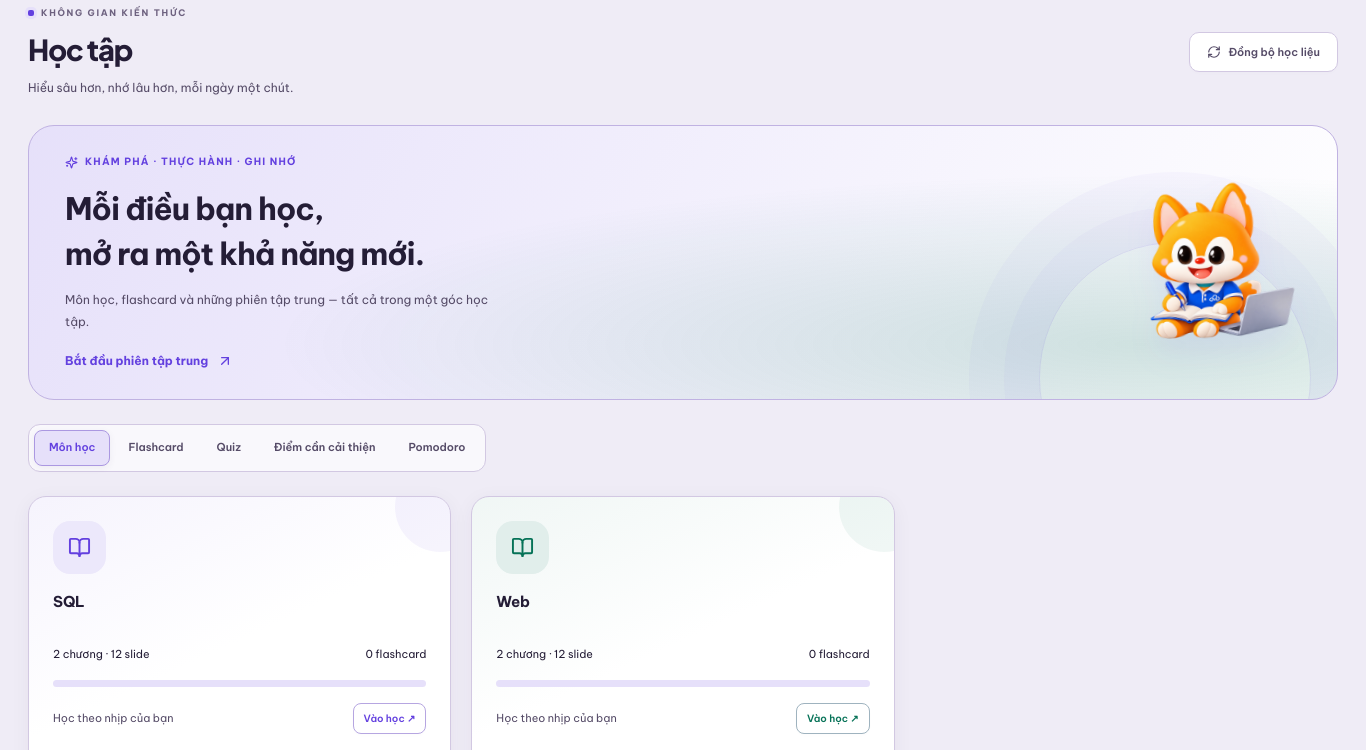
Test: Manual AI summaries and visible sequential queue › only starts AI on button click and lets another course enter the queue
Click the 1st button "Vào học ↗".
click(389, 718)  # box [353, 703, 426, 734]
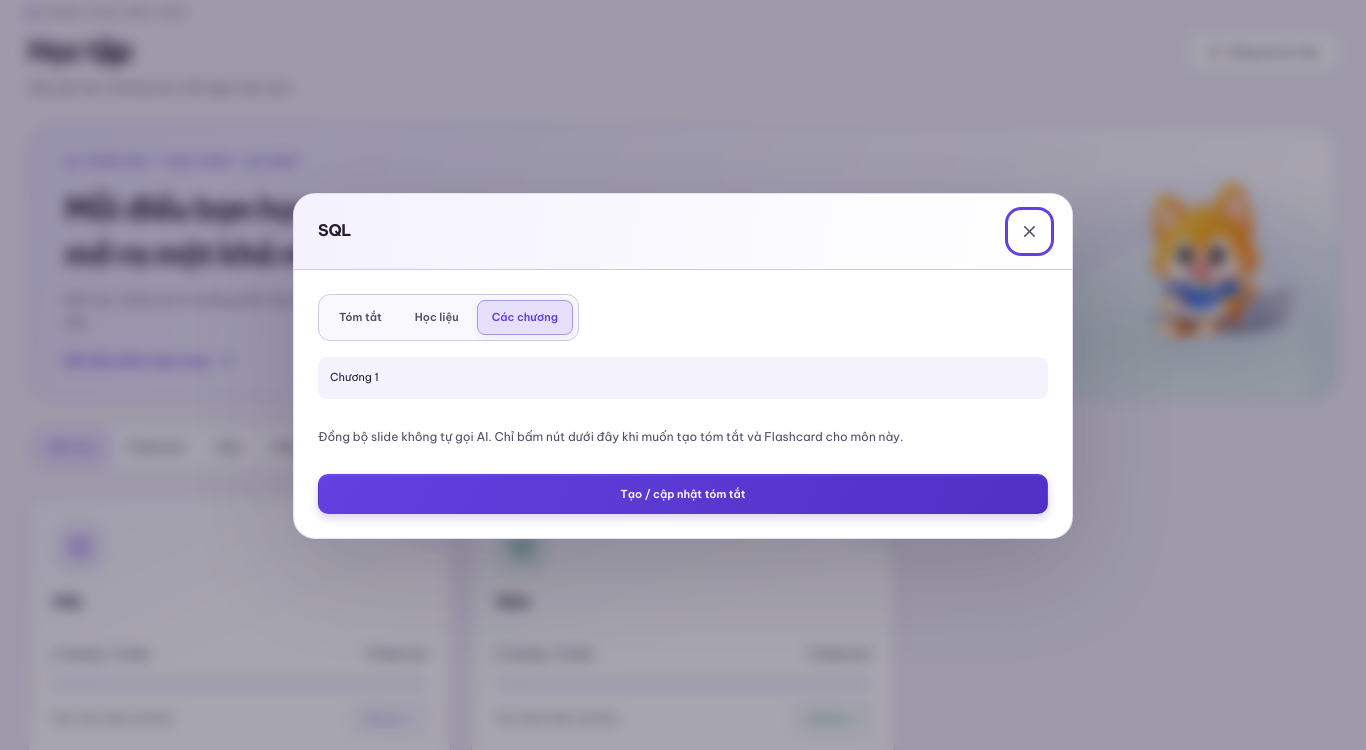
Expected: the text "Chương 1" is shown, [318, 357, 1048, 399]
Click the button "Tạo / cập nhật tóm tắt".
click(683, 494)  # box [318, 474, 1048, 514]
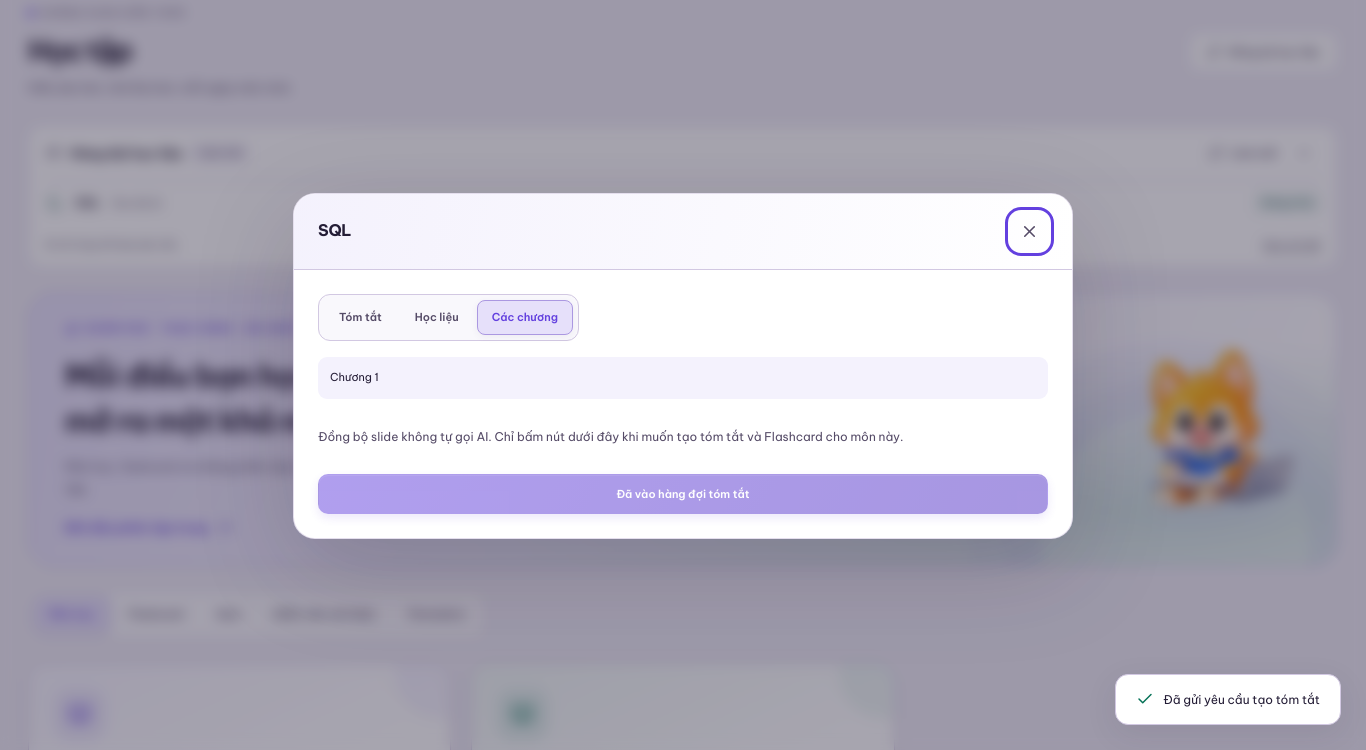
Click the button named "Đóng hộp thoại".
click(1030, 231)  # box [1011, 213, 1048, 250]
(page scrolled)
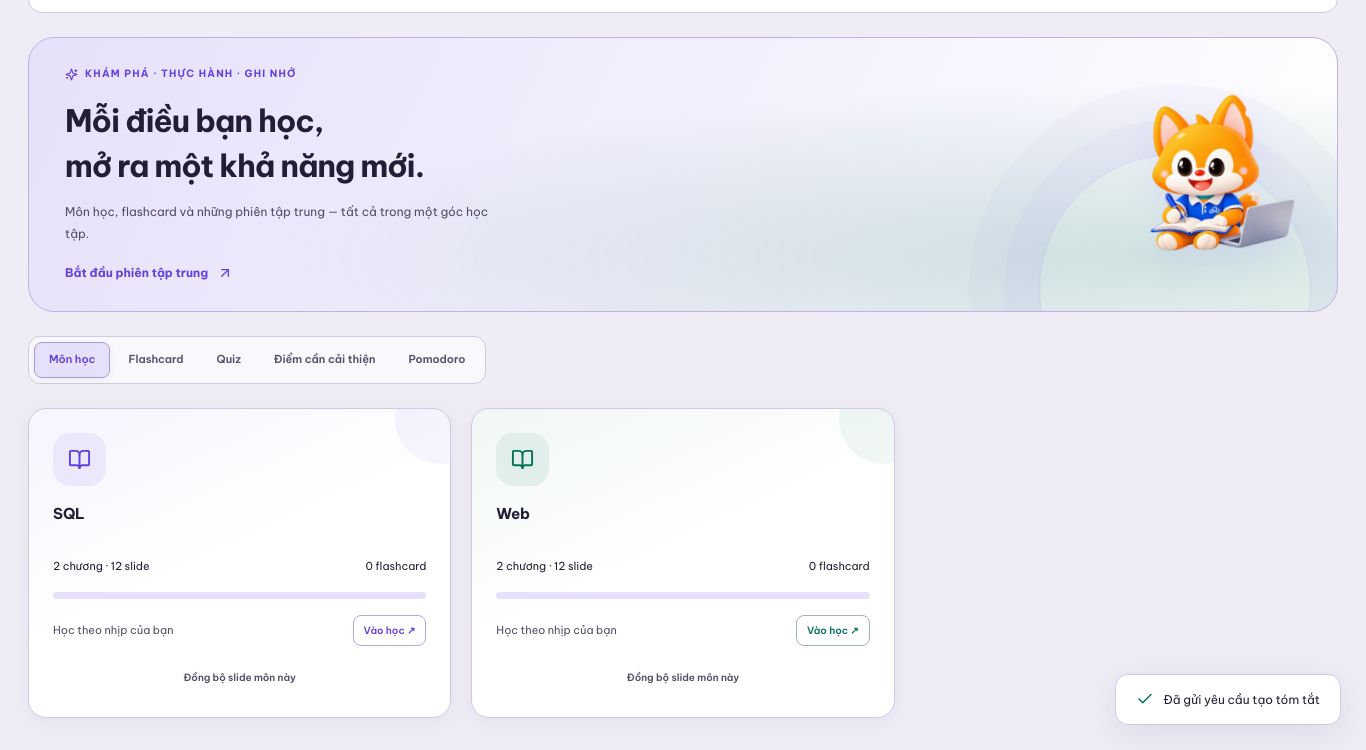
Click the 2nd button "Vào học ↗".
click(833, 630)  # box [796, 615, 870, 646]
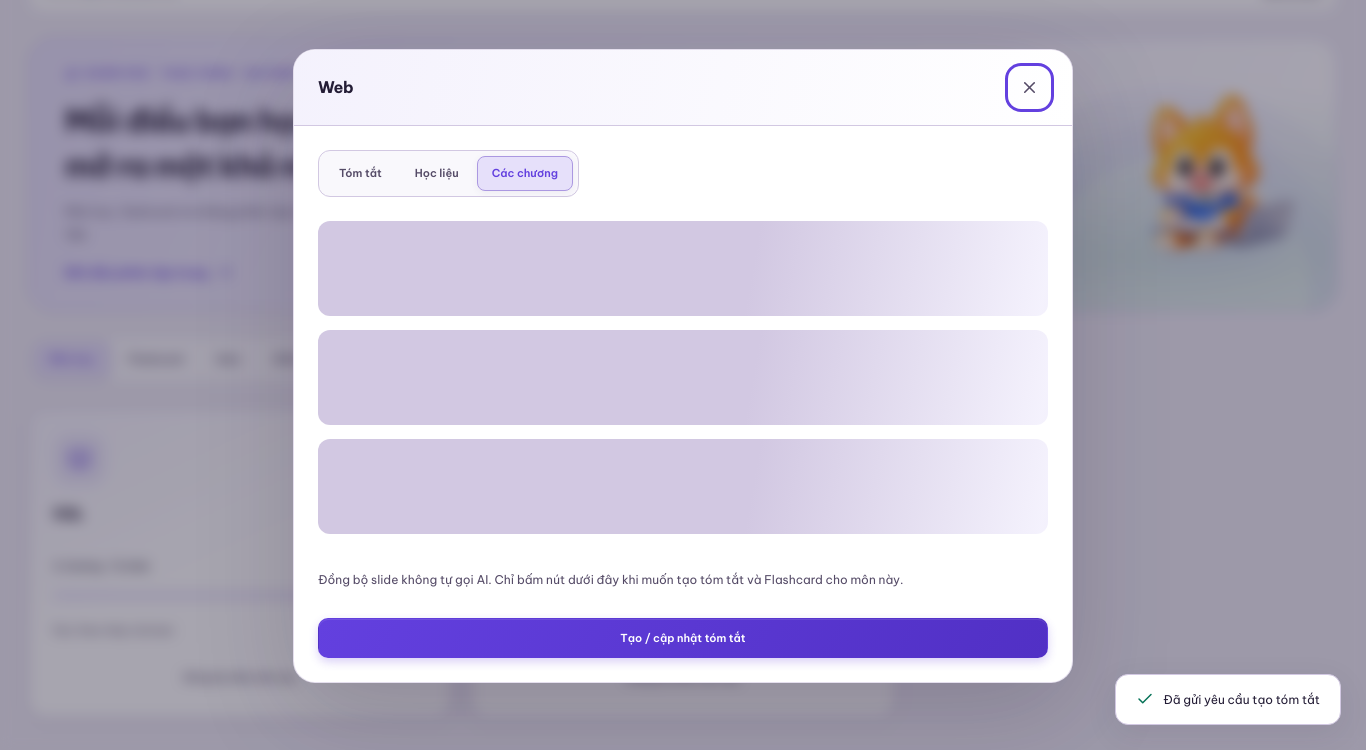
Click the button "Tạo / cập nhật tóm tắt".
click(683, 638)  # box [318, 618, 1048, 658]
(page scrolled)
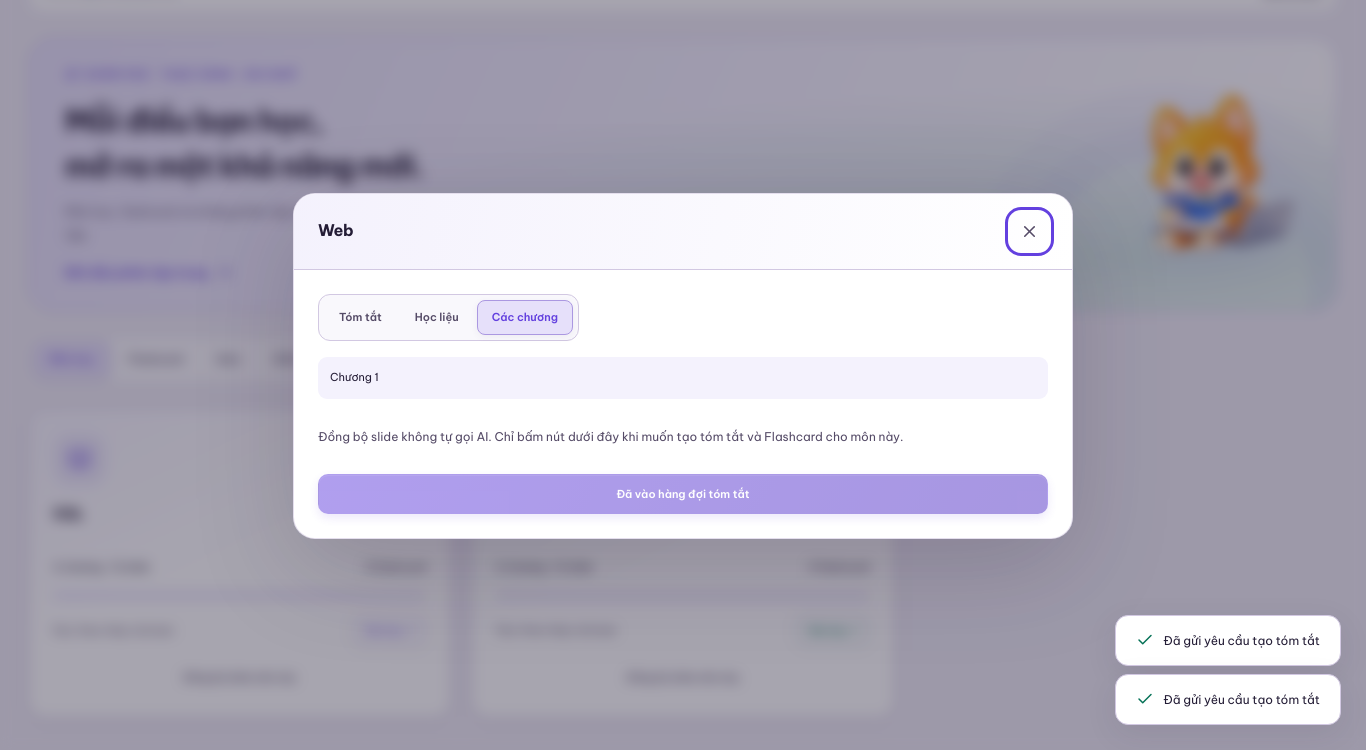
Expected: the button "Đã vào hàng đợi tóm tắt" is disabled, [318, 474, 1048, 514]
